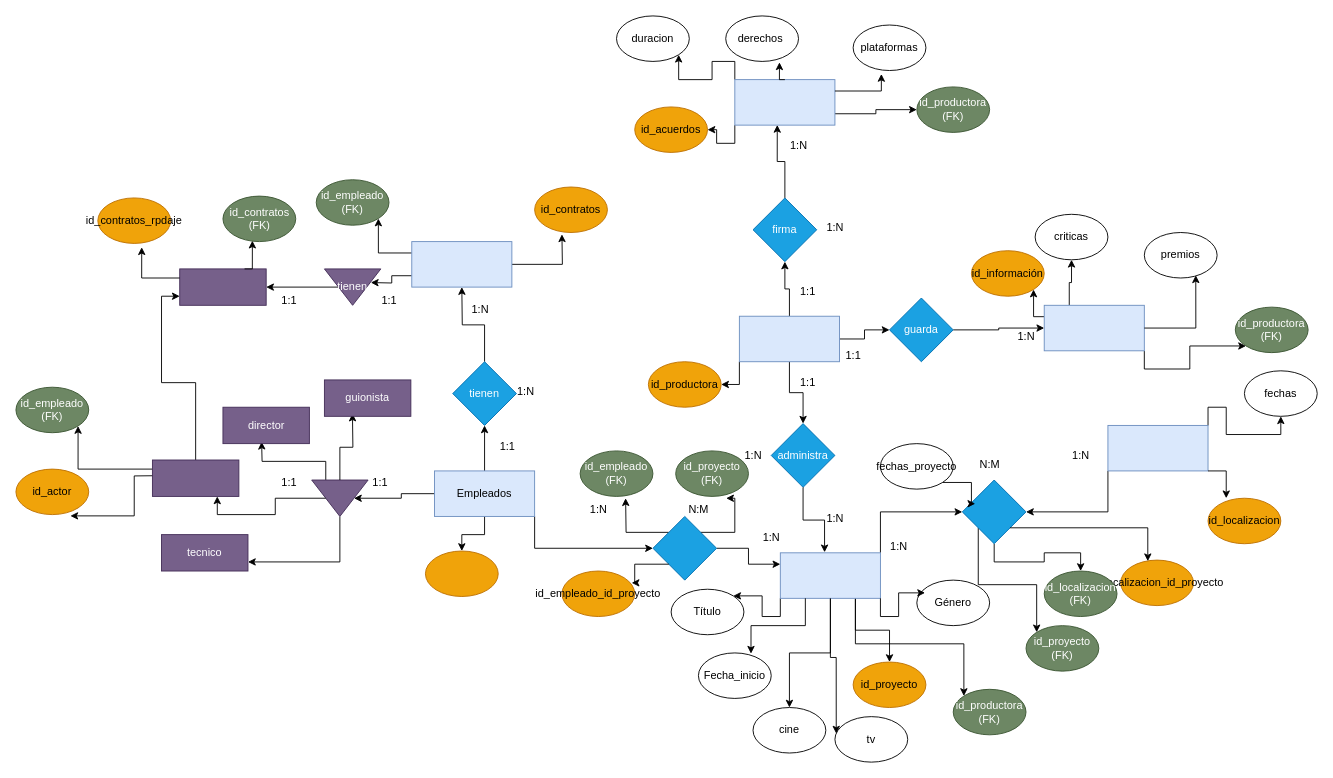
The diagram is 1333 pixels wide and 778 high, and some of its shapes have lost their labels. The box of each missing label's shape, as (x1, y1, x2, y2) in pixels:
actor: (152, 459, 239, 496)
acuerdos: (734, 79, 835, 125)
contratos: (411, 241, 512, 287)
contratos_rodaje: (179, 268, 266, 305)
Es_un: (311, 479, 368, 516)
graban: (961, 479, 1026, 544)
id_empleado: (425, 550, 498, 597)
información: (1043, 304, 1144, 351)
localizaciones: (1107, 425, 1208, 471)
participan: (652, 516, 717, 580)
Productora: (738, 315, 839, 362)
Proyecto: (779, 552, 880, 598)
